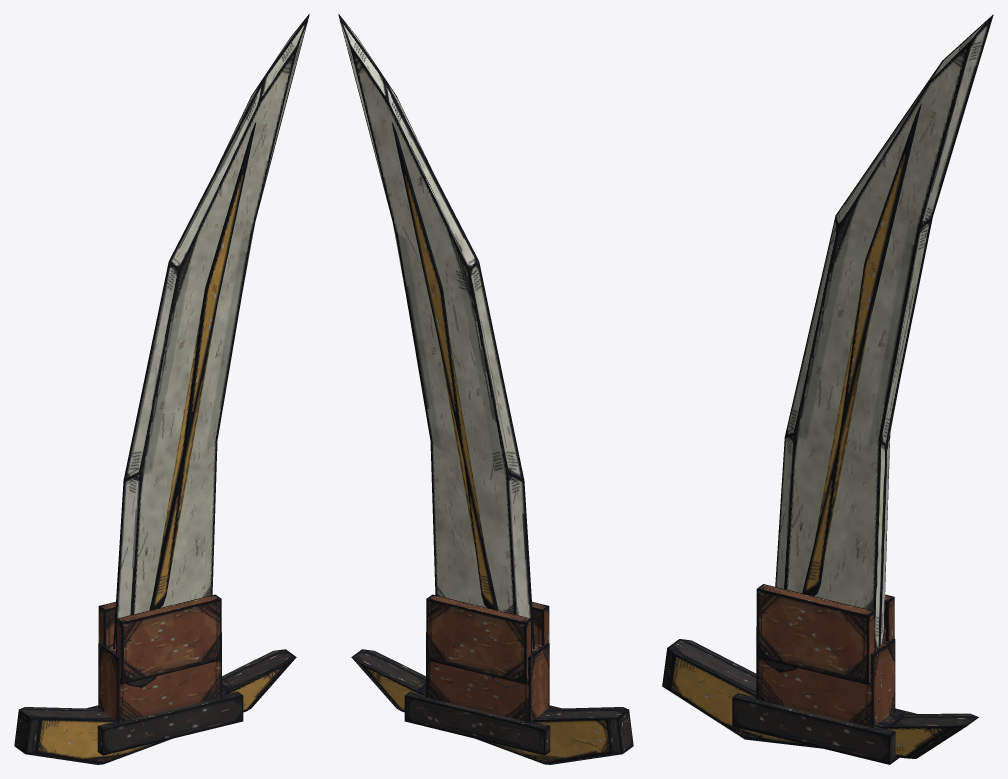
Rendered from blade_jakobs.glb.
3 renders of one model, left to right at view 1: azimuth 30°, elevation 25°; view 2: azimuth 150°, elevation 25°; view 3: azimuth 330°, elevation 25°, orthographic. The views are drawn at different scales.
Parts seen in each view (by area): view 1: blade_jakobs; view 2: blade_jakobs; view 3: blade_jakobs.
Part boxes in pixels (x1,y1,x2,y2): blade_jakobs: [14, 14, 309, 764]; blade_jakobs: [338, 14, 633, 764]; blade_jakobs: [662, 14, 993, 764].
Size of the model in its own units: 0.64 by 1.46 by 0.1.
1 material, 1 textured.
